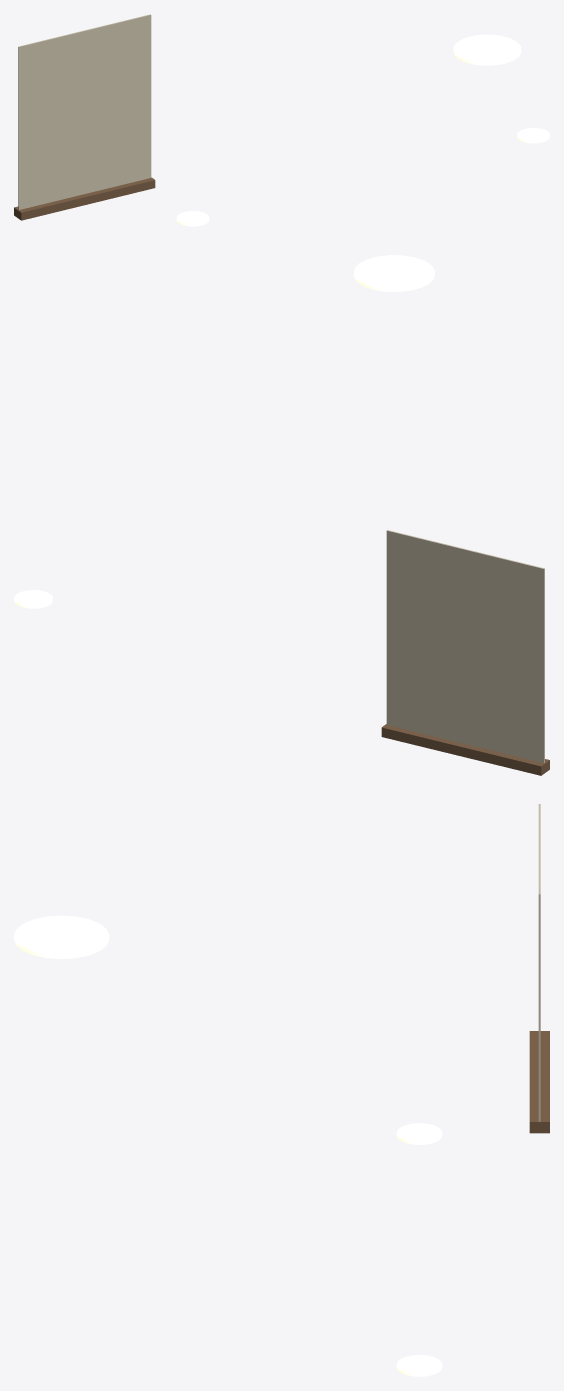
File: fixtures.glb
3 views of the same model, one above another, from view 1: azimuth 30°, elevation 25°; view 2: azimuth 150°, elevation 25°; view 3: azimuth 270°, elevation 25° (orthographic). The views are drawn at different scales.
Visible parts, largest first — view 1: lab-light-master-light, lab-blind-bottom, lab-blind-slat-00, lab-blind-slat-06, lab-blind-slat-02, lab-blind-slat-15, lab-blind-slat-10, lab-blind-slat-08, lab-blind-slat-03, lab-blind-slat-11, lab-blind-slat-14, lab-blind-slat-16 (+12 smaller); view 2: lab-light-master-light, lab-blind-bottom, lab-blind-slat-00, lab-blind-slat-13, lab-blind-slat-06, lab-blind-slat-02, lab-blind-slat-09, lab-blind-slat-17, lab-blind-slat-03, lab-blind-slat-14, lab-blind-slat-16, lab-blind-slat-07 (+10 smaller); view 3: lab-light-master-light, lab-blind-bottom, lab-light-master-bedside-right, lab-light-master-bedside-left.
Part boxes in pixels (left/top/right/bottom): lab-light-master-light: left=453, top=34, right=521, bottom=65; lab-blind-bottom: left=14, top=177, right=155, bottom=220; lab-blind-slat-00: left=18, top=14, right=151, bottom=55; lab-blind-slat-06: left=18, top=64, right=151, bottom=106; lab-blind-slat-02: left=18, top=31, right=151, bottom=72; lab-blind-slat-15: left=18, top=138, right=151, bottom=179; lab-blind-slat-10: left=18, top=97, right=151, bottom=138; lab-blind-slat-08: left=18, top=81, right=151, bottom=122; lab-blind-slat-03: left=18, top=41, right=151, bottom=81; lab-blind-slat-11: left=18, top=106, right=151, bottom=147; lab-blind-slat-14: left=18, top=130, right=151, bottom=171; lab-blind-slat-16: left=18, top=146, right=151, bottom=188; lab-light-master-light: left=353, top=255, right=434, bottom=291; lab-blind-bottom: left=381, top=724, right=549, bottom=775; lab-blind-slat-00: left=386, top=530, right=544, bottom=580; lab-blind-slat-13: left=386, top=658, right=544, bottom=707; lab-blind-slat-06: left=386, top=590, right=544, bottom=639; lab-blind-slat-02: left=386, top=550, right=544, bottom=600; lab-blind-slat-09: left=386, top=619, right=544, bottom=668; lab-blind-slat-17: left=386, top=697, right=544, bottom=746; lab-blind-slat-03: left=386, top=562, right=544, bottom=609; lab-blind-slat-14: left=386, top=668, right=544, bottom=717; lab-blind-slat-16: left=386, top=688, right=544, bottom=737; lab-blind-slat-07: left=386, top=600, right=544, bottom=649; lab-light-master-light: left=14, top=915, right=109, bottom=959; lab-blind-bottom: left=529, top=1031, right=549, bottom=1133; lab-light-master-bedside-right: left=396, top=1355, right=442, bottom=1376; lab-light-master-bedside-left: left=396, top=1123, right=442, bottom=1144.
Bounding box in the file's own units: 3.85 × 1.69 × 2.63.
